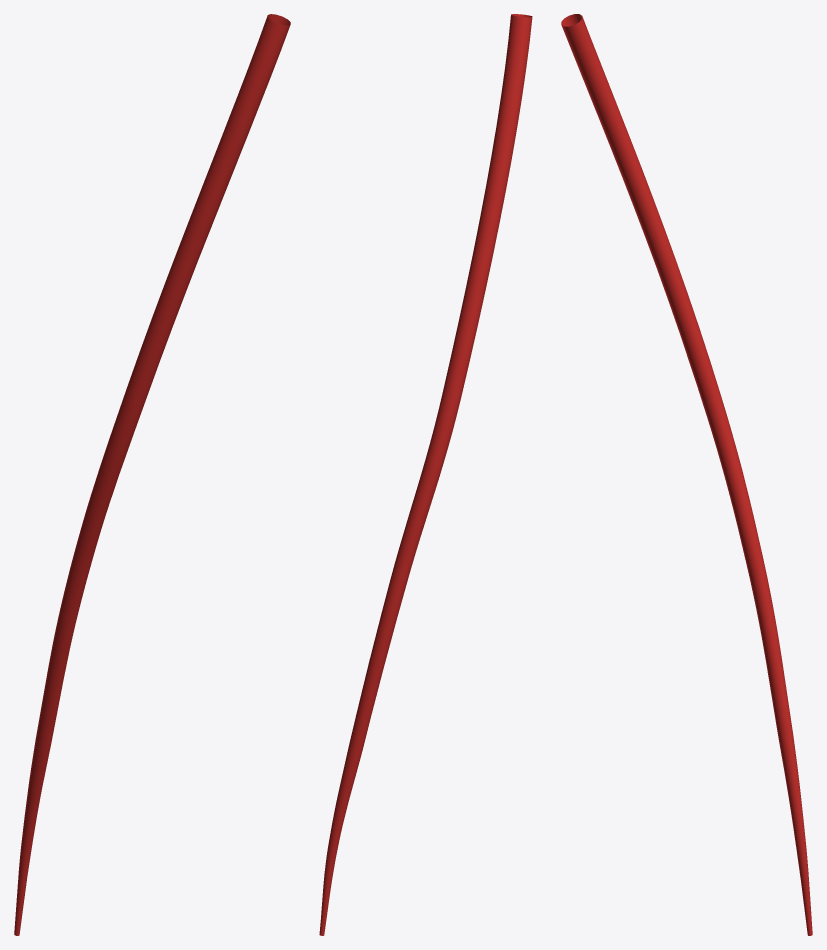
Rendered from circulatorio-thoracodorsal-artery-l.glb.
The picture shows the model from 3 angles, left to right: view 1: azimuth 90°, elevation 25°; view 2: azimuth 150°, elevation 25°; view 3: azimuth 270°, elevation 25°; orthographic projection. The views are drawn at different scales.
Visible parts, largest first — view 1: Thoracodorsal artery.l; view 2: Thoracodorsal artery.l; view 3: Thoracodorsal artery.l.
Part boxes in pixels (x1,y1,x2,y2): Thoracodorsal artery.l: [14, 14, 290, 935]; Thoracodorsal artery.l: [319, 14, 532, 935]; Thoracodorsal artery.l: [561, 14, 812, 935].
Size of the model in its own units: 0.00915 by 0.0763 by 0.0198.
